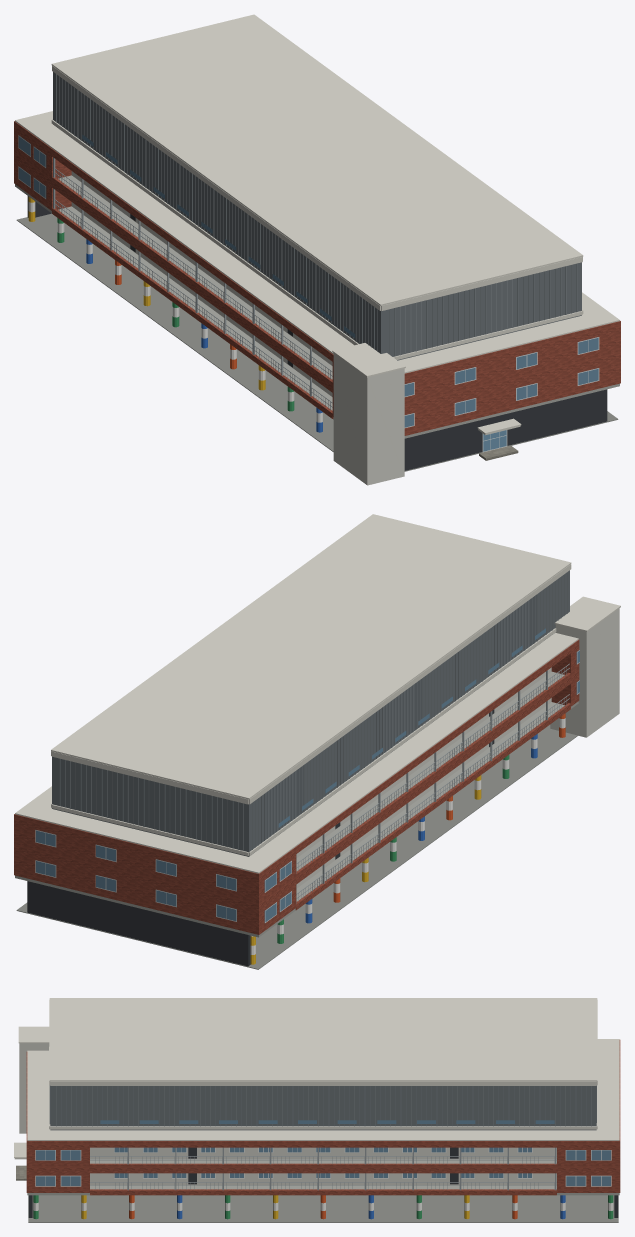
3 renders of one model, top to bottom at view 1: azimuth 30°, elevation 25°; view 2: azimuth 150°, elevation 25°; view 3: azimuth 270°, elevation 25°, orthographic. The views are drawn at different scales.
Parts seen in each view (by area): view 1: gym__cap, gym__greymetal, gym__brick, gym__cream, gym__metal, gym__floor, gym__slab, gym__dark, gym__steel, gym__sideglass, gym__frame, gym__colW; view 2: gym__cap, gym__greymetal, gym__brick, gym__floor, gym__metal, gym__slab, gym__cream, gym__dark, gym__steel, gym__sideglass, gym__frame, gym__colW; view 3: gym__cap, gym__greymetal, gym__brick, gym__floor, gym__cream, gym__slab, gym__sideglass, gym__metal, gym__steel, gym__frame, gym__dark, gym__colW (+1 smaller).
Boxes of the visible parts, x1,y1,x2,y2 form: gym__cap: [15, 14, 619, 435]; gym__greymetal: [53, 72, 581, 360]; gym__brick: [14, 121, 620, 435]; gym__cream: [71, 171, 404, 485]; gym__metal: [56, 74, 577, 356]; gym__floor: [16, 213, 618, 471]; gym__slab: [15, 175, 619, 438]; gym__dark: [27, 196, 607, 470]; gym__steel: [53, 157, 332, 410]; gym__sideglass: [18, 134, 598, 427]; gym__frame: [18, 135, 599, 452]; gym__colW: [28, 202, 322, 422]; gym__cap: [15, 514, 620, 873]; gym__greymetal: [52, 570, 569, 856]; gym__brick: [14, 640, 579, 934]; gym__floor: [16, 725, 577, 969]; gym__metal: [59, 572, 567, 850]; gym__slab: [15, 671, 578, 937]; gym__cream: [296, 608, 619, 888]; gym__dark: [27, 709, 494, 966]; gym__steel: [296, 663, 569, 903]; gym__sideglass: [35, 628, 579, 922]; gym__frame: [35, 650, 579, 922]; gym__colW: [250, 718, 565, 954]; gym__cap: [14, 998, 619, 1159]; gym__greymetal: [50, 1086, 596, 1130]; gym__brick: [26, 1040, 620, 1195]; gym__floor: [28, 1195, 618, 1222]; gym__cream: [19, 1043, 556, 1184]; gym__slab: [27, 1159, 619, 1195]; gym__sideglass: [36, 1120, 610, 1185]; gym__metal: [49, 1085, 596, 1126]; gym__steel: [90, 1147, 556, 1190]; gym__frame: [35, 1147, 611, 1186]; gym__dark: [28, 1147, 618, 1217]; gym__colW: [33, 1202, 613, 1210].
Bounding box in the file's own units: 31.49 × 18.83 × 76.68.
18 materials, 3 textured.
